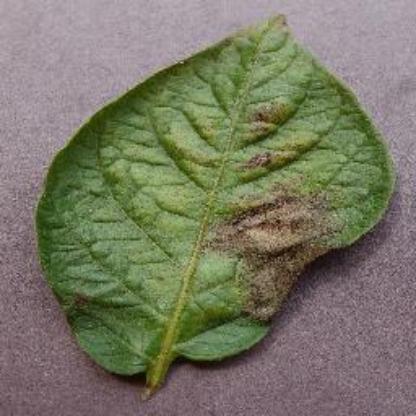Late-Blight: (23, 5, 397, 397)
